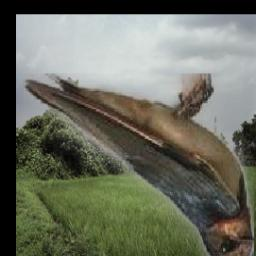Swallow: (24, 74, 254, 256)
